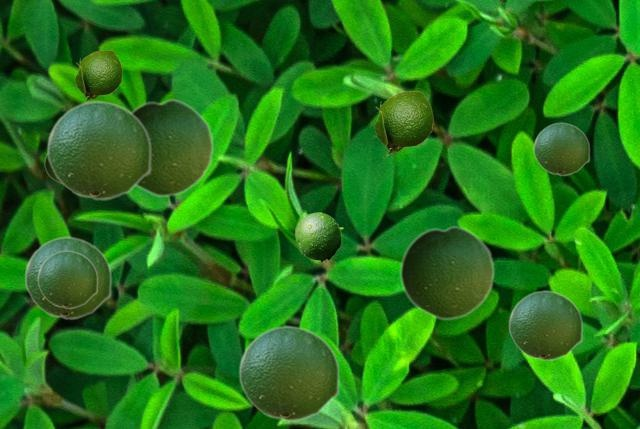dalandan: (46, 100, 151, 200), (238, 325, 339, 421), (399, 225, 494, 320), (131, 97, 213, 197), (24, 236, 111, 319), (508, 290, 582, 360), (373, 91, 432, 157), (37, 250, 97, 308), (533, 122, 589, 175), (74, 50, 121, 101), (295, 212, 342, 261), (44, 156, 60, 183)
